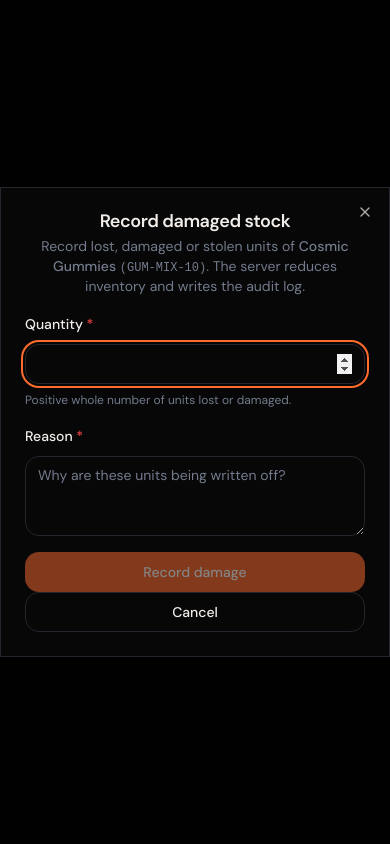
Test: DamageStockModal — validation › enables submit with positive quantity + non-empty reason
The width and height of the screenshot is (390, 844).
Type "5" into the number field labelled "Quantity *" at (195, 364), box [25, 344, 365, 384]
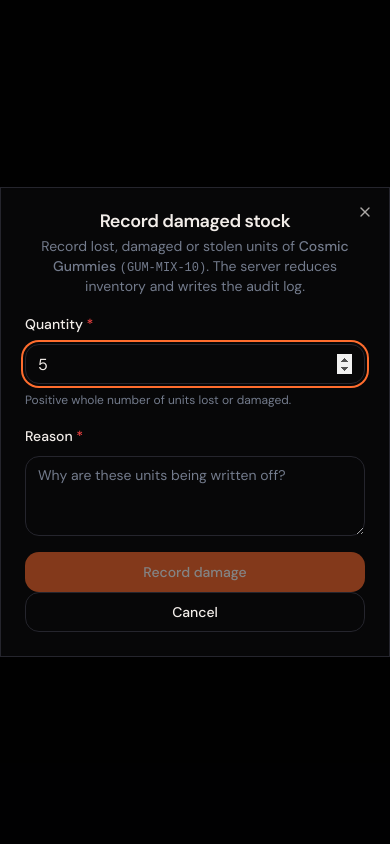
Type "lost in transit" into the text box labelled "Reason *" at (195, 496), box [25, 456, 365, 536]
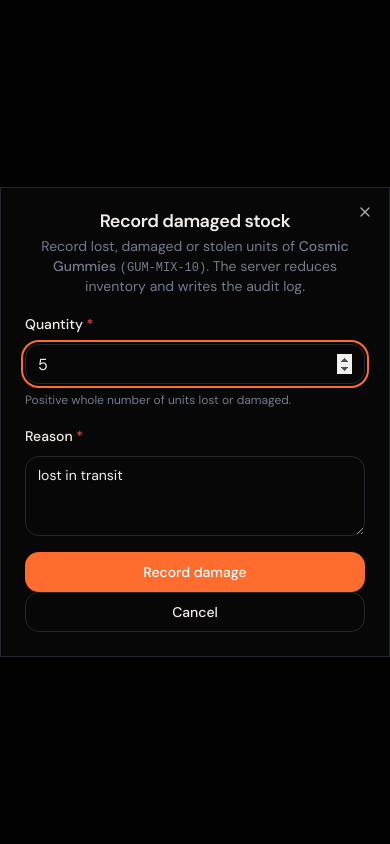
Now the button with test id "damage-stock-submit" is enabled, box [25, 552, 365, 592]
